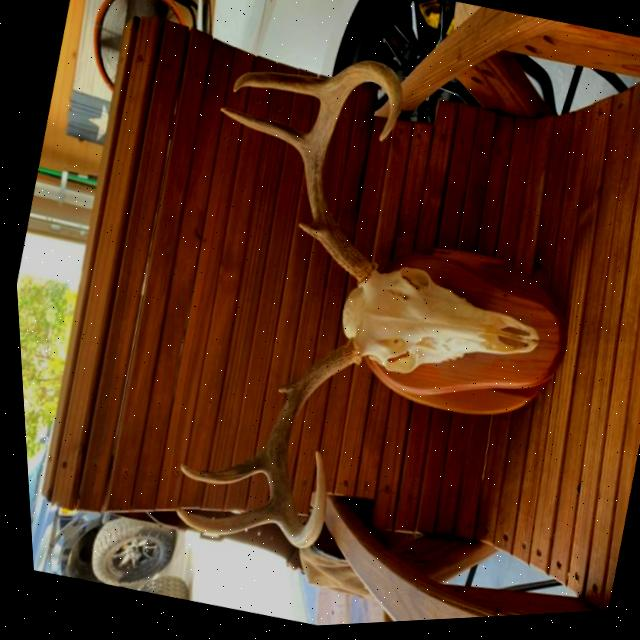L-F: (298, 63, 401, 289)
L-G1: (295, 222, 311, 239)
L-G2: (218, 109, 306, 156)
L-G3: (231, 73, 327, 102)
R-F: (257, 339, 356, 550)
R-G1: (273, 383, 291, 399)
R-G2: (174, 450, 259, 485)
R-G3: (169, 502, 269, 536)
